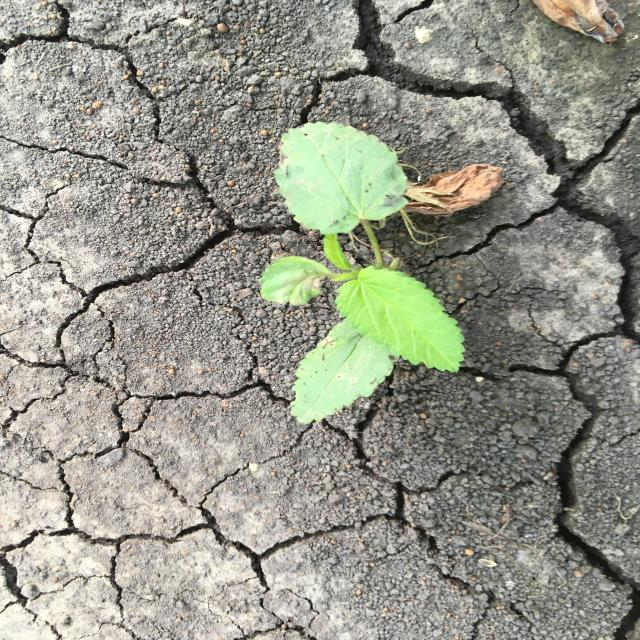PricklySida: (256, 119, 467, 425)
